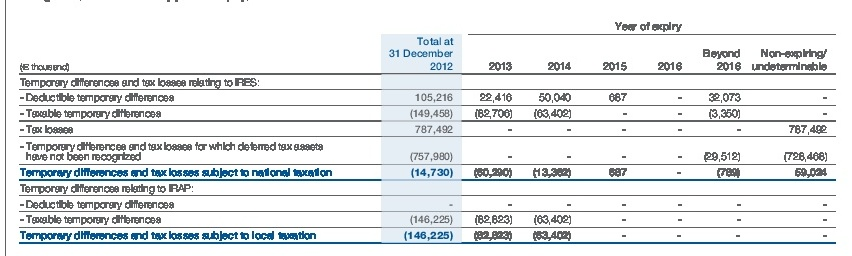table: (0, 0, 852, 256)
